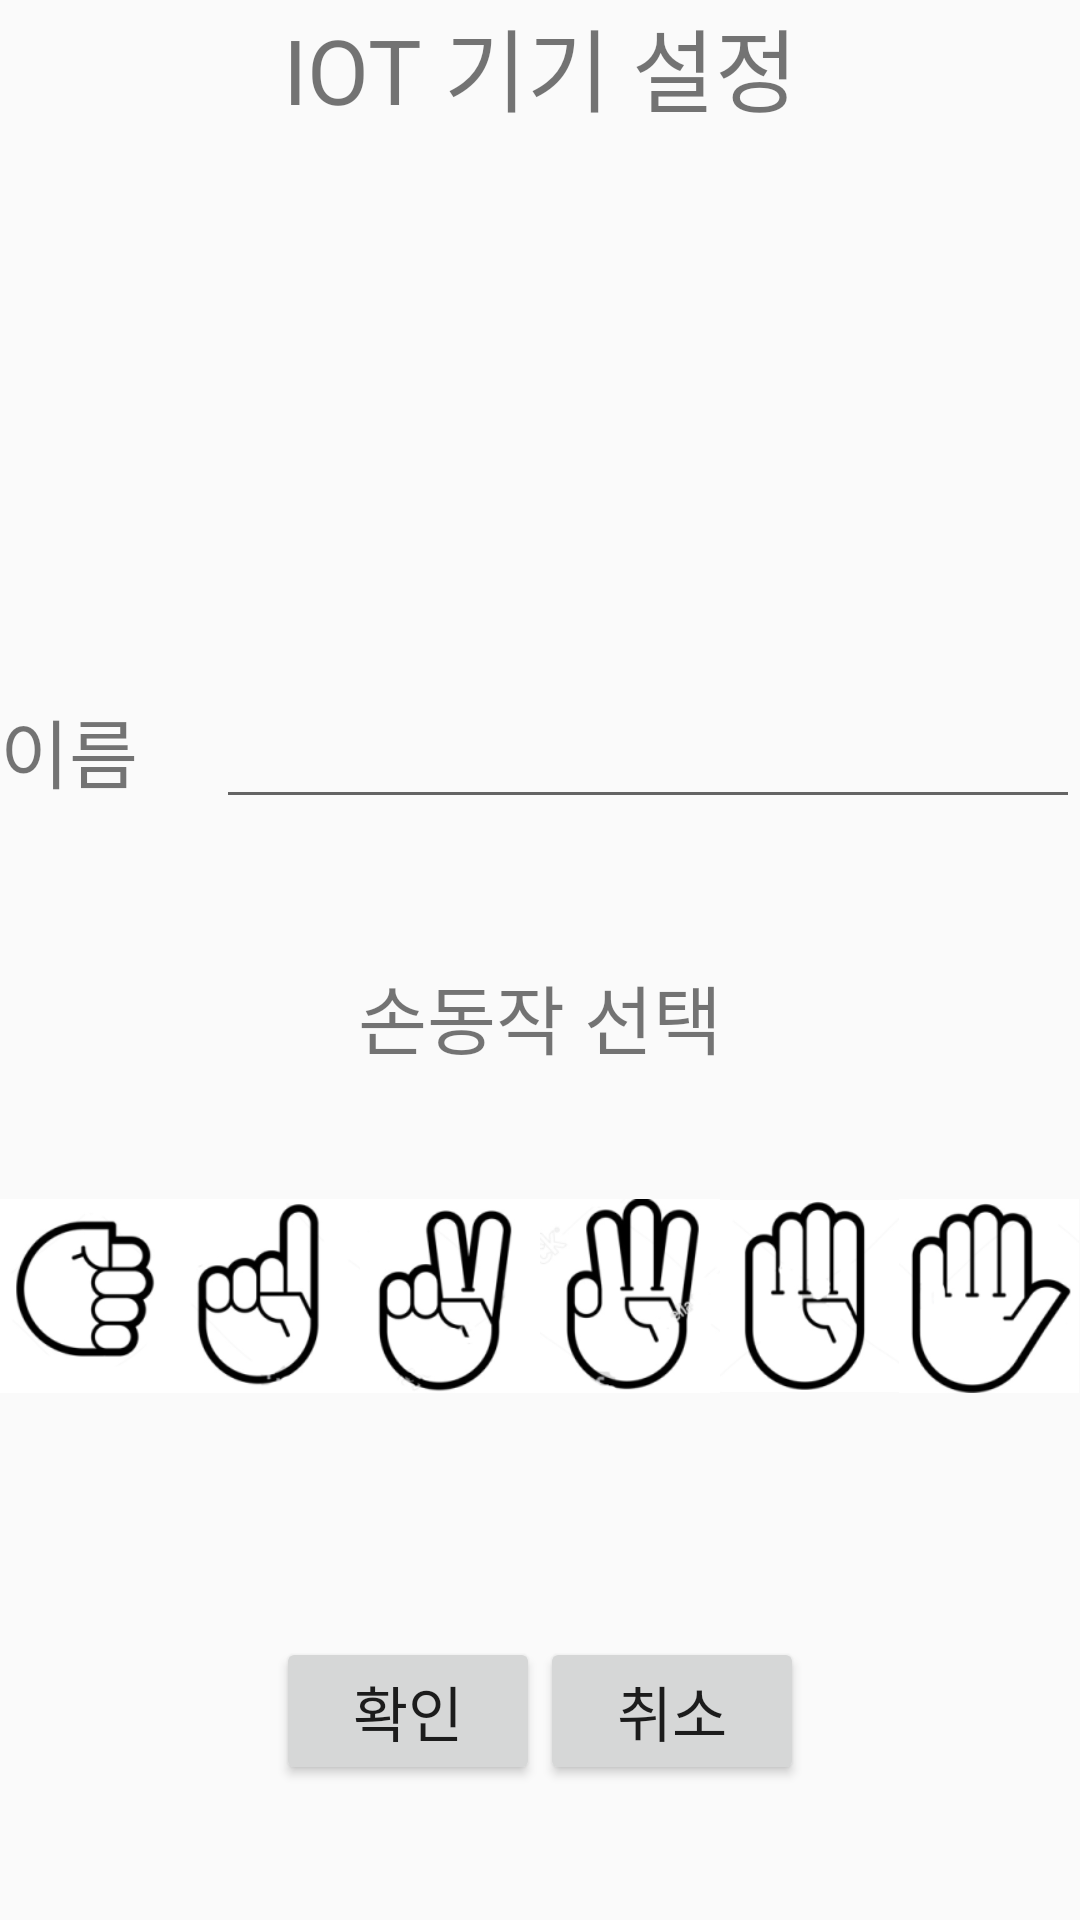

Icon click points for this 1080 × 1920 phone screenshot, format point (x, y):
hand: point (632, 1294), point (804, 1296), point (258, 1294), point (991, 1298), point (445, 1300), point (85, 1289)
